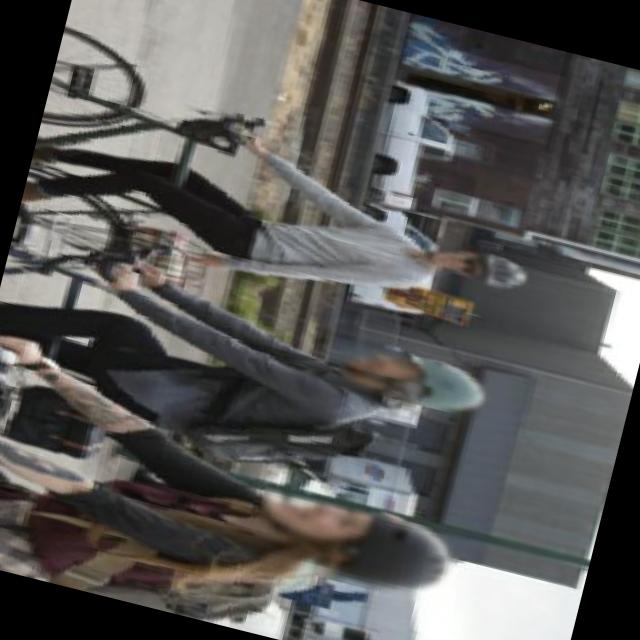With Helmet: (244, 482, 464, 608), (333, 338, 508, 424), (415, 238, 539, 300)
